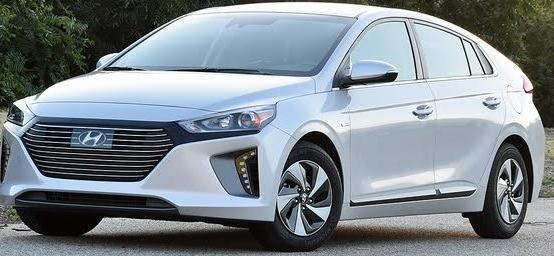Cars: (1, 4, 545, 252)
